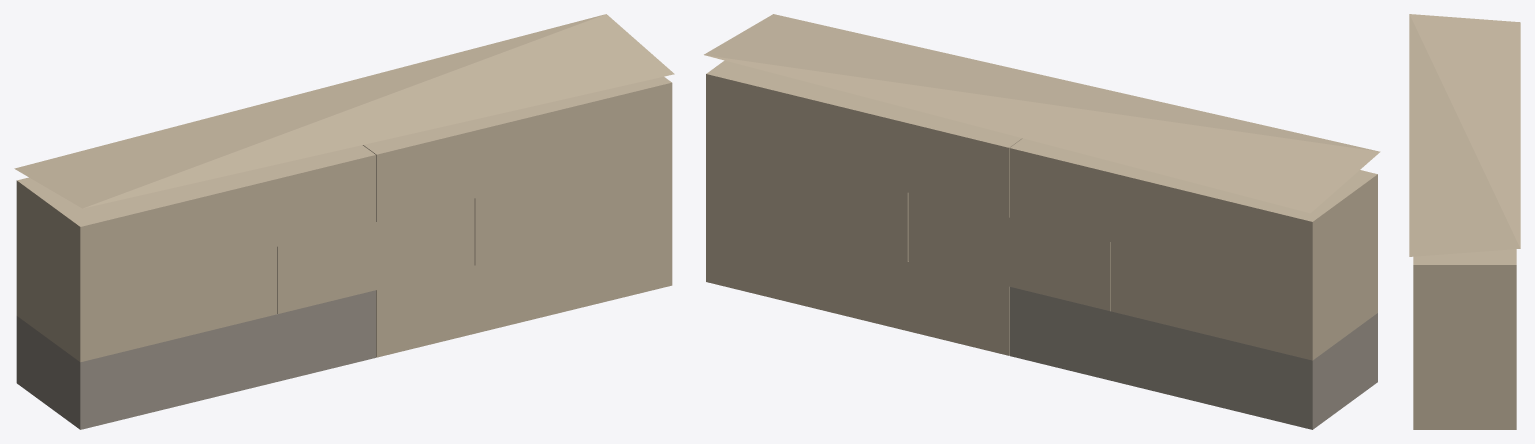
Rendered from stone_low_wall.fbx.
3 views of the same model, side by side, from view 1: azimuth 30°, elevation 25°; view 2: azimuth 150°, elevation 25°; view 3: azimuth 270°, elevation 25° (orthographic). The views are drawn at different scales.
Visible parts, largest first — view 1: stone_low_wall; view 2: stone_low_wall; view 3: stone_low_wall.
Part boxes in pixels (x1,y1,x2,y2): stone_low_wall: (14,14,674,429); stone_low_wall: (704,14,1380,429); stone_low_wall: (1409,14,1520,429).
Size of the model in its own units: 2.5 by 0.9 by 0.5.
